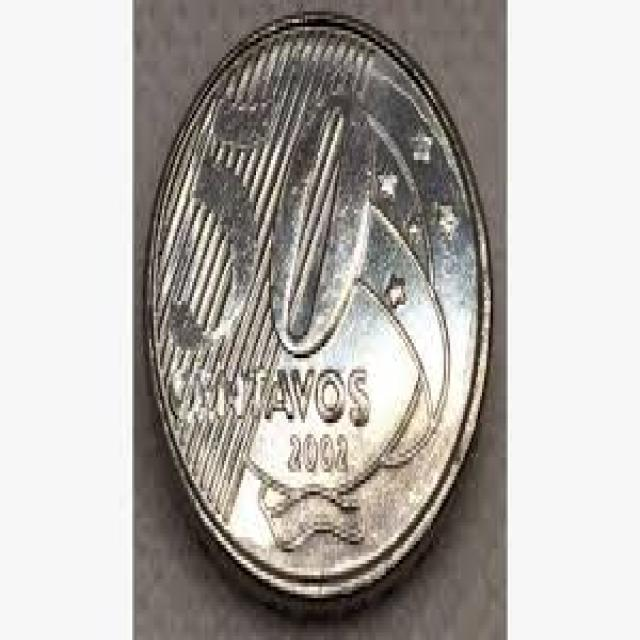50 cent: (142, 10, 493, 606)
